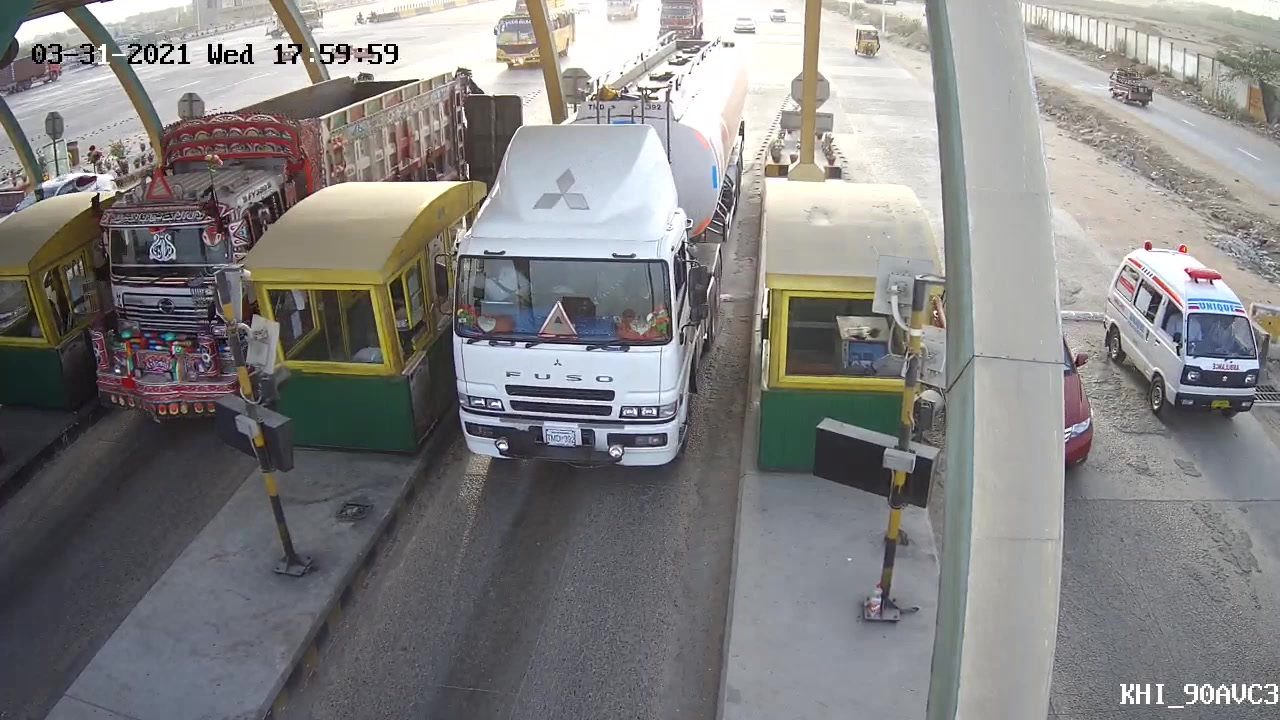F6: (434, 23, 751, 477)
